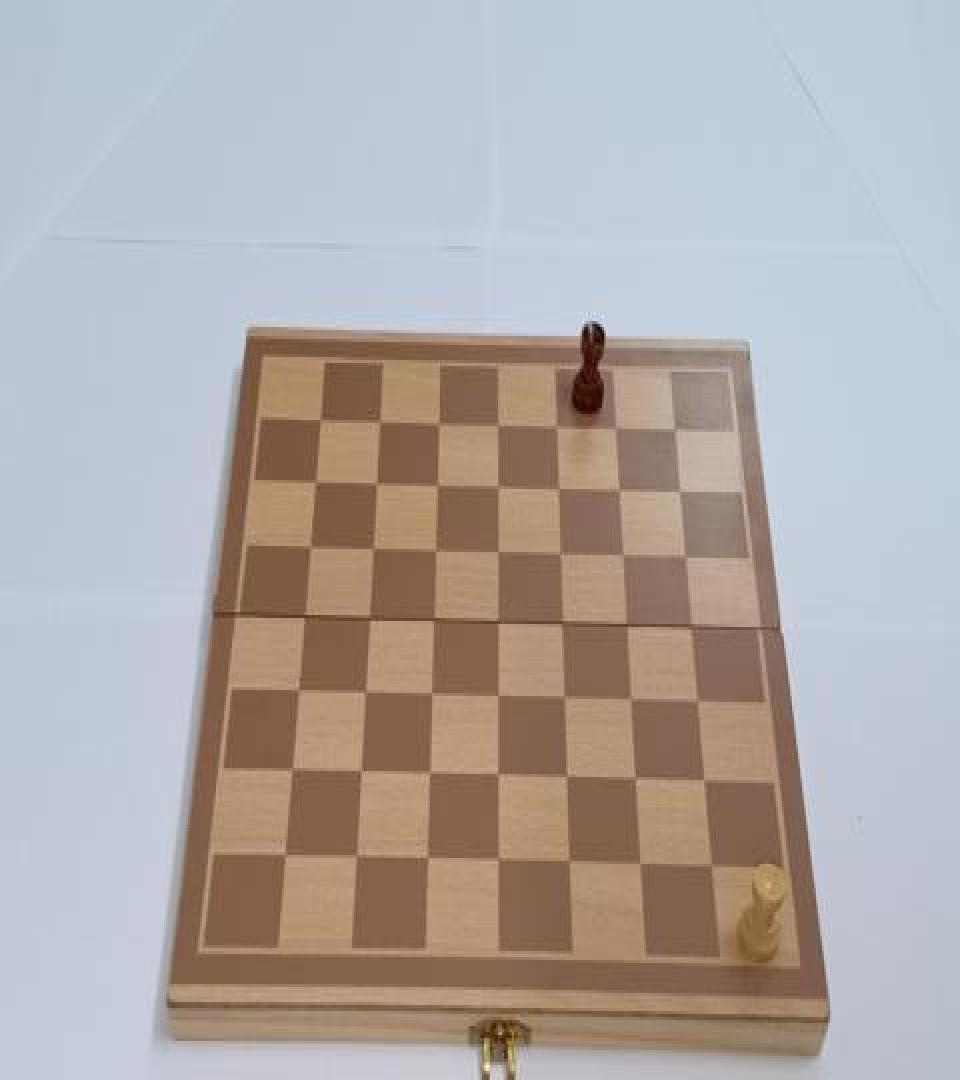xcorner: (365, 472, 383, 500), (427, 412, 445, 440), (419, 760, 437, 788), (669, 478, 687, 506), (309, 411, 327, 438), (304, 471, 322, 498), (294, 604, 312, 631), (288, 678, 306, 705), (282, 756, 300, 783), (275, 840, 293, 867), (368, 411, 386, 438), (361, 537, 379, 564), (358, 606, 376, 633), (425, 474, 443, 501), (424, 538, 442, 565), (421, 681, 439, 708), (417, 844, 435, 871), (485, 414, 503, 441), (486, 540, 504, 567), (487, 609, 505, 636), (487, 683, 505, 710), (488, 762, 506, 789), (488, 846, 506, 873), (544, 415, 562, 442), (547, 477, 565, 504), (552, 610, 570, 637), (604, 415, 622, 442), (608, 477, 626, 504), (612, 543, 630, 570), (616, 612, 634, 639), (621, 687, 639, 714), (626, 765, 644, 792), (632, 851, 650, 878), (663, 417, 681, 444), (675, 545, 693, 572), (689, 689, 707, 716), (696, 768, 714, 795), (704, 852, 722, 879), (299, 536, 317, 562), (354, 680, 372, 706), (350, 758, 368, 784), (346, 842, 364, 868), (422, 608, 440, 634), (486, 476, 504, 502), (549, 542, 567, 568), (554, 686, 572, 712), (557, 764, 575, 790), (560, 848, 578, 874), (682, 614, 700, 640)
